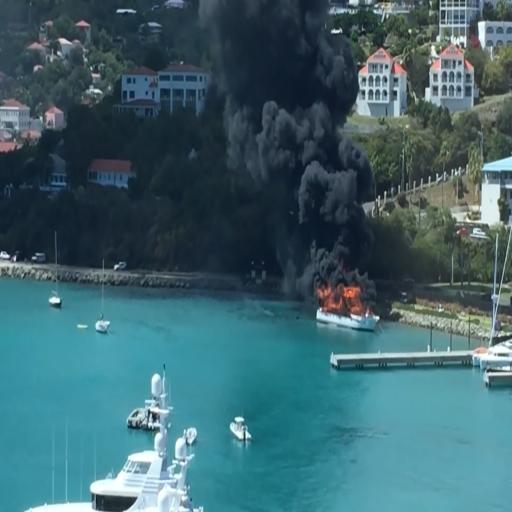smoke: (198, 2, 356, 114), (263, 84, 362, 254)
